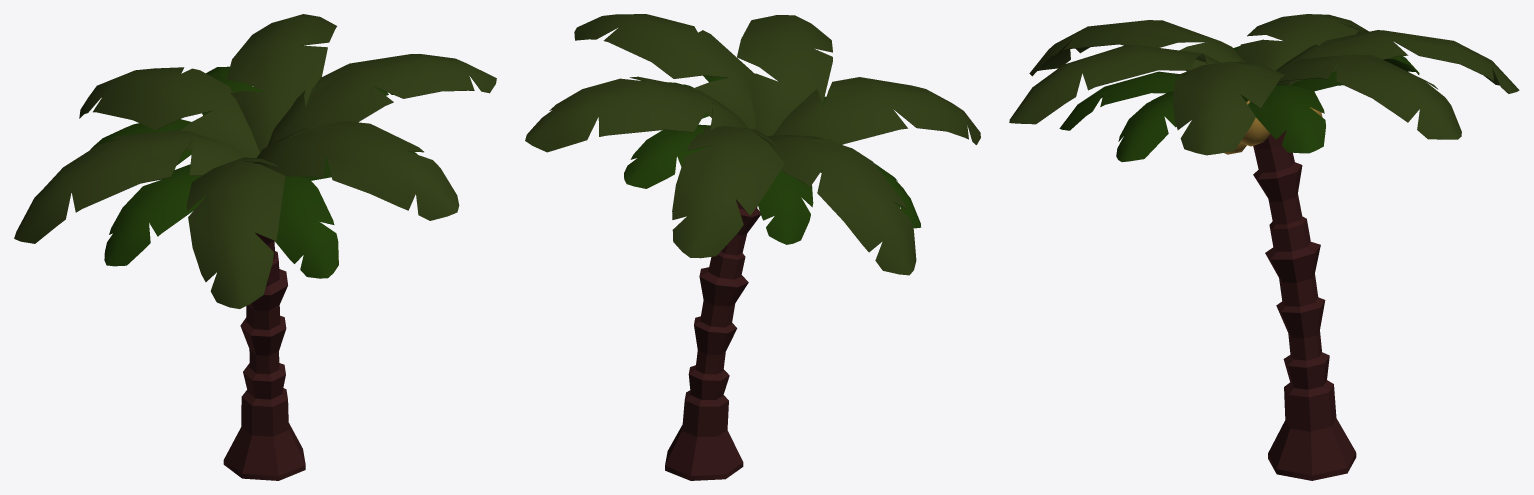
The model's file is SuperPalm.FBX.
3 renders of one model, left to right at view 1: azimuth 30°, elevation 25°; view 2: azimuth 150°, elevation 25°; view 3: azimuth 270°, elevation 25°, orthographic. The views are drawn at different scales.
Visible parts, largest first — view 1: Plane001, Plane002, Plane006, Cylinder001, Plane003, Plane005, Plane004, Plane012, Plane007, Plane011, Plane010; view 2: Cylinder001, Plane005, Plane006, Plane004, Plane001, Plane003, Plane002, Plane011, Plane010, Plane012; view 3: Cylinder001, Plane003, Plane004, Plane002, Plane005, Plane001, Plane006, Plane009, Plane008, Plane007.
Part boxes in pixels (x1=…): Plane001: x1=186, y1=157, x2=285, y2=308; Plane002: x1=254, y1=121, x2=459, y2=220; Plane006: x1=14, y1=129, x2=246, y2=243; Cylinder001: x1=223, y1=233, x2=305, y2=480; Plane003: x1=267, y1=54, x2=496, y2=146; Plane005: x1=79, y1=67, x2=259, y2=157; Plane004: x1=226, y1=14, x2=336, y2=152; Plane012: x1=104, y1=164, x2=206, y2=266; Plane007: x1=275, y1=176, x2=338, y2=278; Plane011: x1=90, y1=119, x2=191, y2=165; Plane010: x1=202, y1=66, x2=265, y2=115; Cylinder001: x1=665, y1=200, x2=760, y2=480; Plane005: x1=672, y1=126, x2=784, y2=258; Plane006: x1=763, y1=135, x2=916, y2=275; Plane004: x1=525, y1=76, x2=748, y2=152; Plane001: x1=773, y1=77, x2=980, y2=144; Plane003: x1=574, y1=14, x2=755, y2=129; Plane002: x1=737, y1=15, x2=832, y2=136; Plane011: x1=758, y1=169, x2=813, y2=244; Plane010: x1=624, y1=124, x2=710, y2=188; Plane012: x1=820, y1=163, x2=921, y2=228; Cylinder001: x1=1253, y1=130, x2=1356, y2=480; Plane003: x1=1172, y1=61, x2=1289, y2=155; Plane004: x1=1278, y1=54, x2=1461, y2=139; Plane002: x1=1009, y1=45, x2=1220, y2=124; Plane005: x1=1276, y1=30, x2=1519, y2=93; Plane001: x1=1029, y1=20, x2=1245, y2=76; Plane006: x1=1237, y1=14, x2=1368, y2=70; Plane009: x1=1241, y1=84, x2=1325, y2=153; Plane008: x1=1116, y1=91, x2=1247, y2=162; Plane007: x1=1059, y1=71, x2=1183, y2=130.
Bounding box in the file's own units: 131 × 123 × 131.
